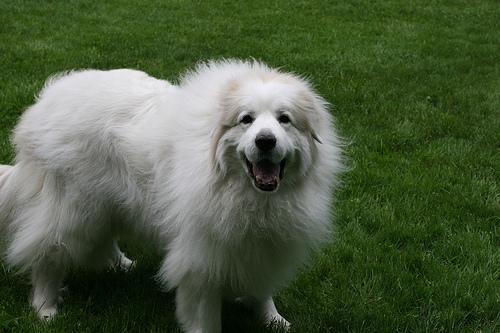Great_Pyrenees: (0, 56, 346, 332)
